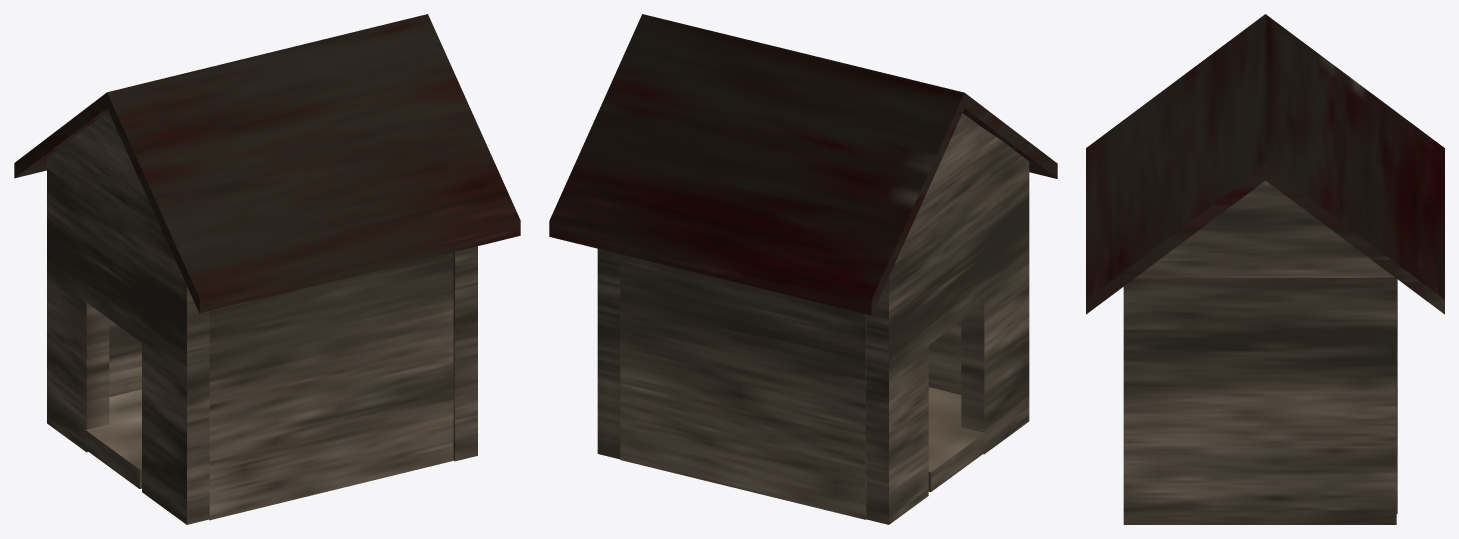
Rendered from Casita_Perro.obj.
3 views of the same model, side by side, from view 1: azimuth 30°, elevation 25°; view 2: azimuth 150°, elevation 25°; view 3: azimuth 270°, elevation 25° (orthographic). The views are drawn at different scales.
Parts seen in each view (by area): view 1: Cube.008; view 2: Cube.008; view 3: Cube.008.
Part boxes in pixels (x1,y1,x2,y2): Cube.008: (14,14,520,524); Cube.008: (549,14,1057,524); Cube.008: (1086,14,1444,524).
Bounding box in the file's own units: 1.43 × 1.63 × 1.43.
Materials: 1 (1 with a texture image).
